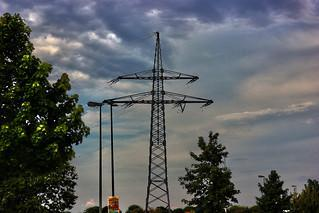power_tower: (107, 29, 214, 213)
